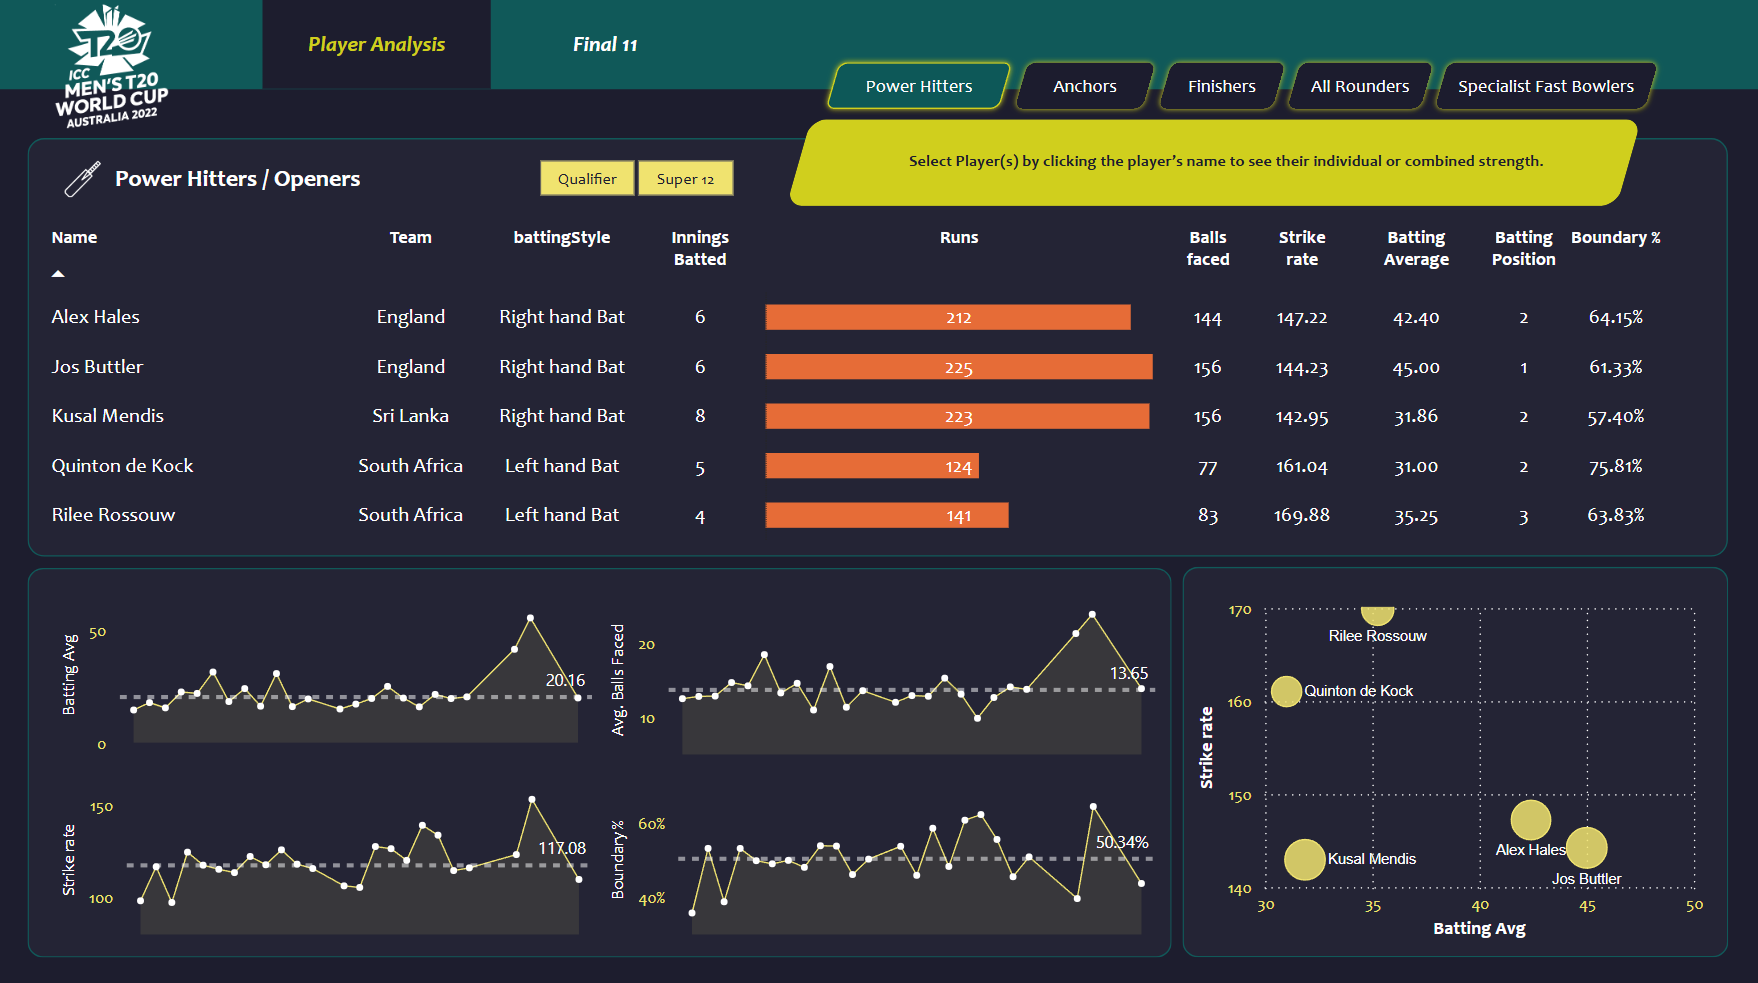

What the dashboard file says about the page in this screenshot:
{"tool":"powerbi","page":{"name":"Power Hitters / Openers","canvas":[1280,720],"ordinal":0},"visuals":[{"type":"shape","box":[0,66,1280,654],"z":0},{"type":"card","fields":{"Values":["Key_Measures.Strike rate"]},"box":[867,89,93,60],"z":0,"group":"g2"},{"type":"group","id":"g1","title":"Group 2","box":[83.8,116.2,260,31.2],"z":0,"group":"g3"},{"type":"shape","box":[83.8,116.2,260,31.2],"z":0,"group":"g1"},{"type":"card","fields":{"Values":["Key_Measures.Bat Avg"]},"box":[768,89,92,60],"z":1000,"group":"g2"},{"type":"image","box":[38,114,44,36],"z":1000,"group":"g3"},{"type":"shape","box":[20,414.4,832.2,283.3],"z":1000},{"type":"actionButton","box":[734,42.6,111,42],"z":2000},{"type":"card","fields":{"Values":["Key_Measures.Boundary %"]},"box":[1063.6,92.3,110,56.7],"z":2000,"group":"g2"},{"type":"actionButton","box":[596,42.6,144,42],"z":3000},{"type":"card","fields":{"Values":["Key_Measures.Avergate Balls Faced"]},"box":[966,89,101,60],"z":3000,"group":"g2"},{"type":"actionButton","box":[838,42.6,101,42],"z":4000},{"type":"actionButton","box":[932,42.6,115,42],"z":5000},{"type":"actionButton","box":[1039,42.6,171,42],"z":6000},{"type":"image","box":[32.6,0,96.5,100.1],"z":7000},{"type":"areaChart","fields":{"Category":["dim_match_summary.Match_Date.Variation.Date Hierarchy.Day"],"Y":["Key_Measures.Boundary %"]},"box":[438.8,560,406.2,126.2],"z":9000},{"type":"shape","box":[860,414,397,284],"z":10000},{"type":"areaChart","fields":{"Category":["dim_match_summary.Match_Date.Variation.Date Hierarchy.Day"],"Y":["Key_Measures.Avergate Balls Faced"]},"box":[438.8,428.8,406.2,126.2],"z":11000},{"type":"areaChart","fields":{"Category":["dim_match_summary.Match_Date.Variation.Date Hierarchy.Day"],"Y":["Key_Measures.Bat Avg"]},"box":[40,428.9,395.6,126.7],"z":12000},{"type":"areaChart","fields":{"Category":["dim_match_summary.Match_Date.Variation.Date Hierarchy.Day"],"Y":["Key_Measures.Strike rate"]},"box":[40,560,396.2,126.2],"z":13000},{"type":"shape","box":[20,102.2,1236.7,304.4],"z":14000},{"type":"slicer","fields":{"Values":["dim_match_summary.stage"]},"box":[366.7,111.1,191.1,38.9],"z":15000},{"type":"shape","box":[572,88,622,63],"z":16000},{"type":"shape","box":[591,103,173,34],"z":17000},{"type":"group","id":"g2","title":"Combined Perfoamce Metrices","box":[768,89,405.6,60],"z":18000},{"type":"group","id":"g3","title":"Group 1","box":[38,114,305.8,36],"z":19000},{"type":"tableEx","fields":{"Values":["dim_player.name","dim_player.team","dim_player.Batting Style","Key_Measures.Total Matches","Key_Measures.Total Runs","Key_Measures.total balls faced","Key_Measures.Strike rate","Key_Measures.Bat Avg","Key_Measures.Batting Position","Key_Measures.Boundary %"]},"box":[26,151,1231,255],"z":20000},{"type":"scatterChart","fields":{"Y":["Key_Measures.Strike rate"],"Category":["dim_player.name"],"X":["Key_Measures.Bat Avg"],"Size":["Key_Measures.Total Runs"]},"box":[866.7,430,377.8,258.9],"z":21000},{"type":"actionButton","title":"Button Player Ana selected","box":[191,0,166,66],"z":22000},{"type":"actionButton","title":"Button Player Ana selected","box":[357,0,166,66],"z":23000},{"type":"shape","box":[612,100,560,36],"z":24000}]}

Visuals, with their boxes in screenshot pixels (x1, y1, x2, y2), scaled from the page's 1280x720 canvas onto the 1758x983 screenshot:
shape: [left=0, top=90, right=1757, bottom=982]
card - Key_Measures.Strike rate: [left=1191, top=122, right=1318, bottom=203]
"Group 2" group: [left=115, top=159, right=472, bottom=201]
shape: [left=115, top=159, right=472, bottom=201]
card - Key_Measures.Bat Avg: [left=1055, top=122, right=1181, bottom=203]
image: [left=52, top=156, right=113, bottom=205]
shape: [left=27, top=566, right=1170, bottom=953]
actionButton: [left=1008, top=58, right=1161, bottom=116]
card - Key_Measures.Boundary %: [left=1461, top=126, right=1612, bottom=203]
actionButton: [left=819, top=58, right=1016, bottom=116]
card - Key_Measures.Avergate Balls Faced: [left=1327, top=122, right=1465, bottom=203]
actionButton: [left=1151, top=58, right=1290, bottom=116]
actionButton: [left=1280, top=58, right=1438, bottom=116]
actionButton: [left=1427, top=58, right=1662, bottom=116]
image: [left=45, top=0, right=177, bottom=137]
areaChart - dim_match_summary.Match_Date.Variation.Date Hierarchy.Day x Key_Measures.Boundary %: [left=603, top=765, right=1161, bottom=937]
shape: [left=1181, top=565, right=1726, bottom=953]
areaChart - dim_match_summary.Match_Date.Variation.Date Hierarchy.Day x Key_Measures.Avergate Balls Faced: [left=603, top=585, right=1161, bottom=758]
areaChart - dim_match_summary.Match_Date.Variation.Date Hierarchy.Day x Key_Measures.Bat Avg: [left=55, top=586, right=598, bottom=759]
areaChart - dim_match_summary.Match_Date.Variation.Date Hierarchy.Day x Key_Measures.Strike rate: [left=55, top=765, right=599, bottom=937]
shape: [left=27, top=140, right=1726, bottom=555]
slicer - dim_match_summary.stage: [left=504, top=152, right=766, bottom=205]
shape: [left=786, top=120, right=1640, bottom=206]
shape: [left=812, top=141, right=1049, bottom=187]
"Combined Perfoamce Metrices" group: [left=1055, top=122, right=1612, bottom=203]
"Group 1" group: [left=52, top=156, right=472, bottom=205]
tableEx - dim_player.name x dim_player.team: [left=36, top=206, right=1726, bottom=554]
scatterChart - Key_Measures.Strike rate x dim_player.name: [left=1190, top=587, right=1709, bottom=941]
"Button Player Ana selected" actionButton: [left=262, top=0, right=490, bottom=90]
"Button Player Ana selected" actionButton: [left=490, top=0, right=718, bottom=90]
shape: [left=841, top=137, right=1610, bottom=186]
